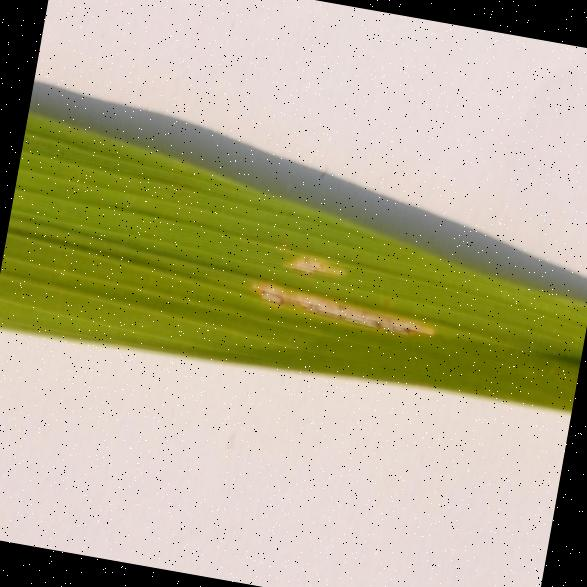Bacteria_Leaf_Blight: (226, 198, 470, 361)
